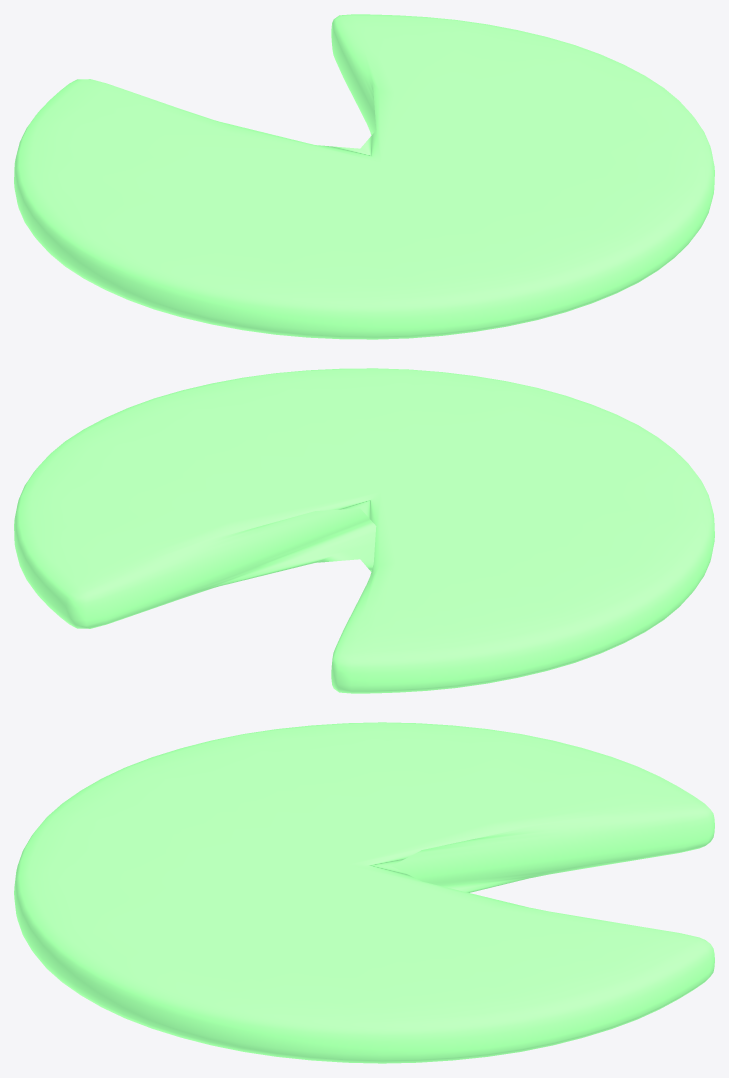
The model's file is Lilypad.fbx.
The picture shows the model from 3 angles, top to bottom: view 1: azimuth 30°, elevation 25°; view 2: azimuth 150°, elevation 25°; view 3: azimuth 270°, elevation 25°; orthographic projection. The views are drawn at different scales.
Parts seen in each view (by area): view 1: Lilypad; view 2: Lilypad; view 3: Lilypad.
Part boxes in pixels (x1,y1,x2,y2): Lilypad: [14, 14, 714, 339]; Lilypad: [14, 368, 714, 693]; Lilypad: [14, 722, 714, 1063].
Size of the model in its own units: 42.1 by 3.55 by 40.06.
